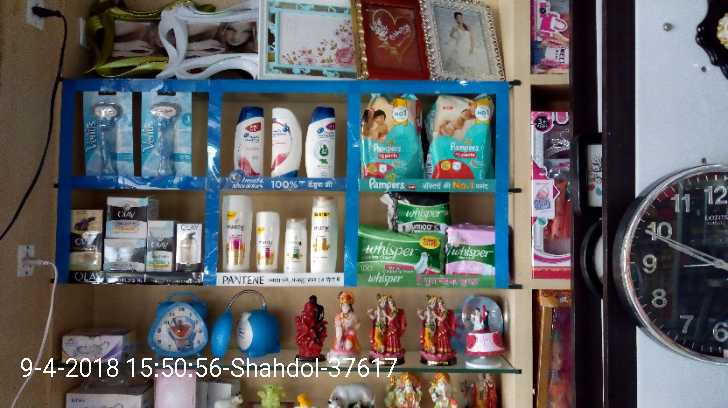venus: (142, 94, 190, 175), (86, 91, 132, 174)
